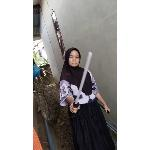Pedang: (67, 49, 95, 119)
